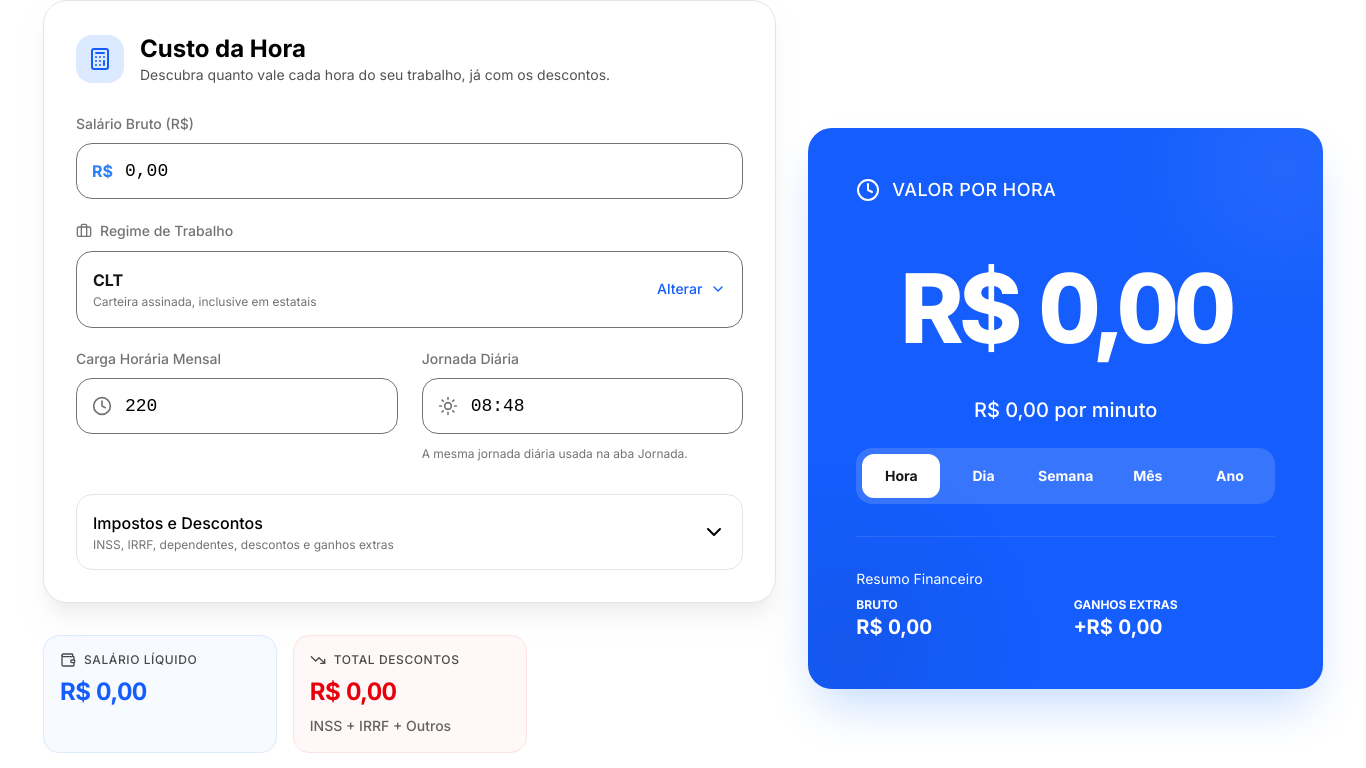
SalaryCalculator › recalculates the hourly value when the salary changes
The width and height of the screenshot is (1366, 768).
Step 1. Type "100000" into the field labelled "Salário Bruto (R$)" → (410,171), box [76, 143, 743, 199]
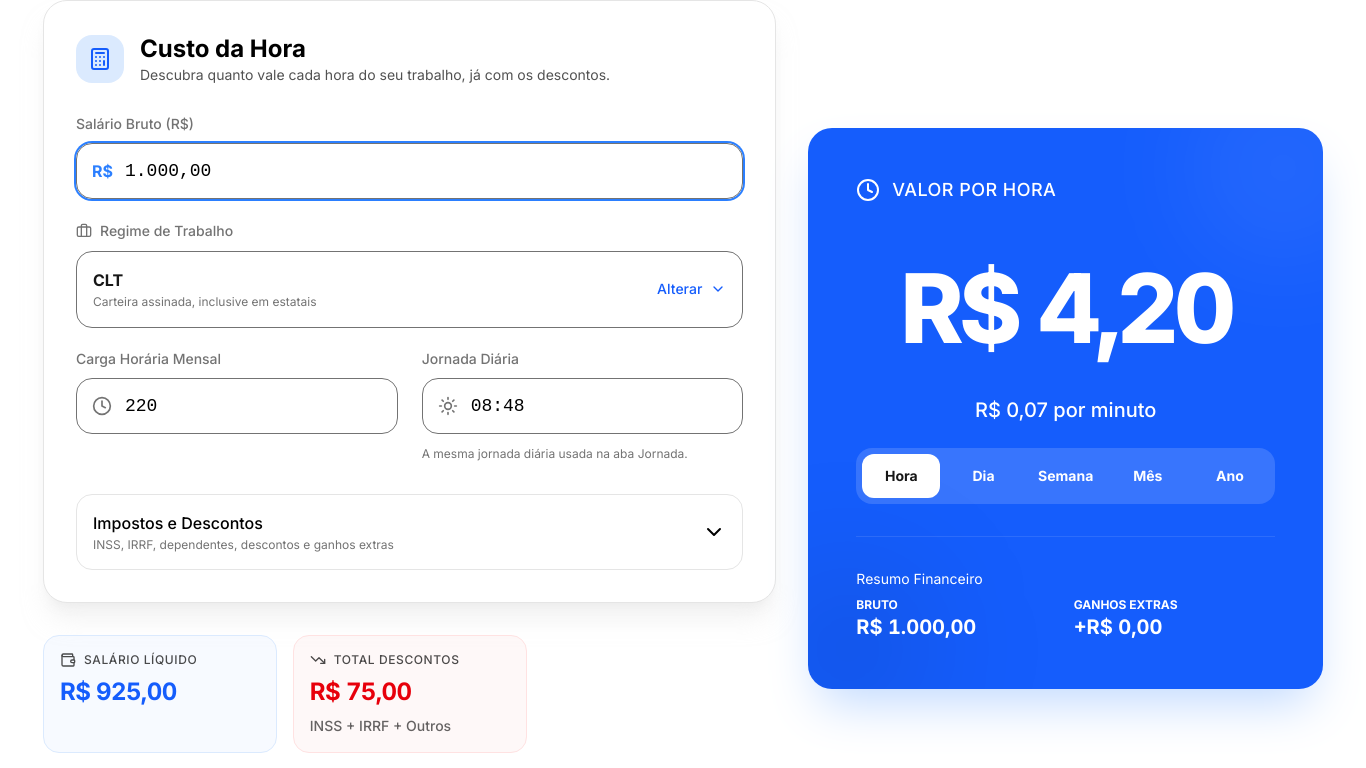
Check: the field labelled "Salário Bruto (R$)" holds "1.000,00", box [76, 143, 743, 199]
